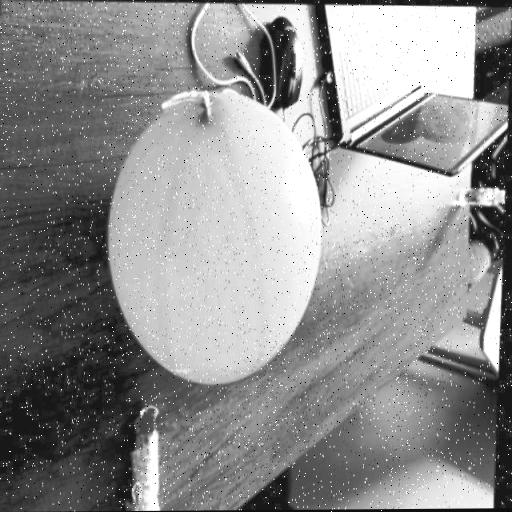balloon: (106, 79, 330, 385)
